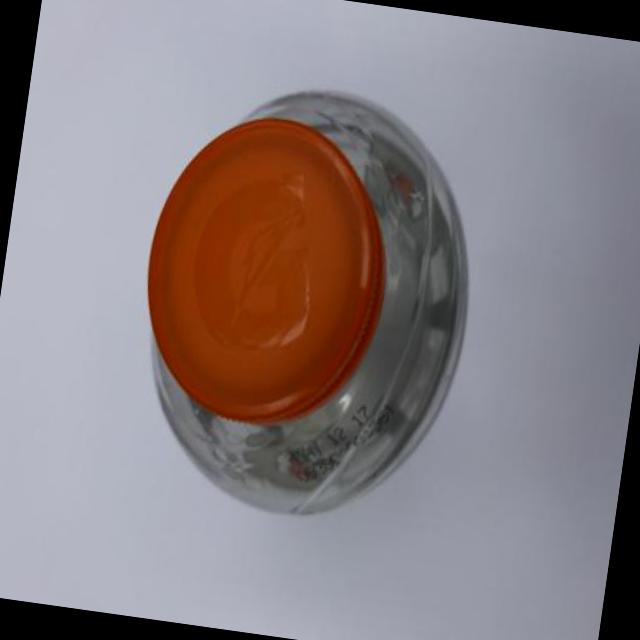Recycle: (115, 69, 498, 535)
